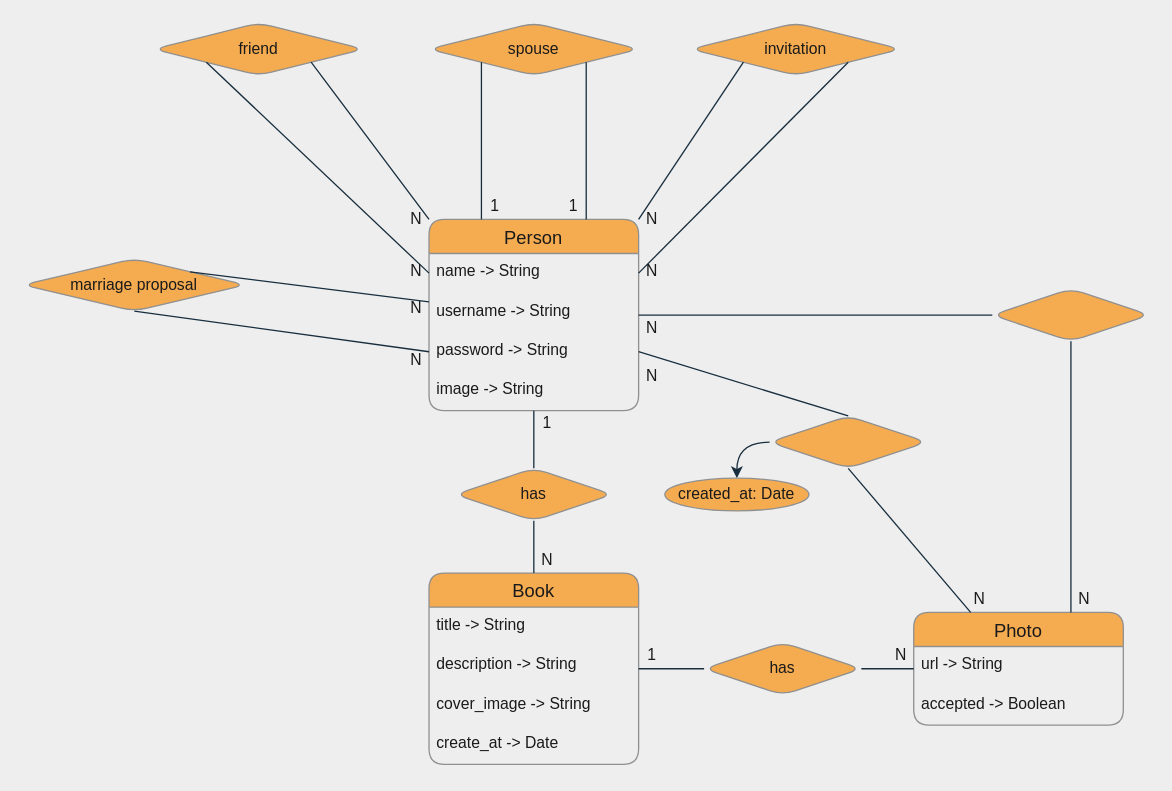
The diagram is 1172 pixels wide and 791 high, and some of its shapes have lost their labels. Each missing label, with the centre of its shape:
"comment" belongs at (847,441).
"like" belongs at (1070,314).
